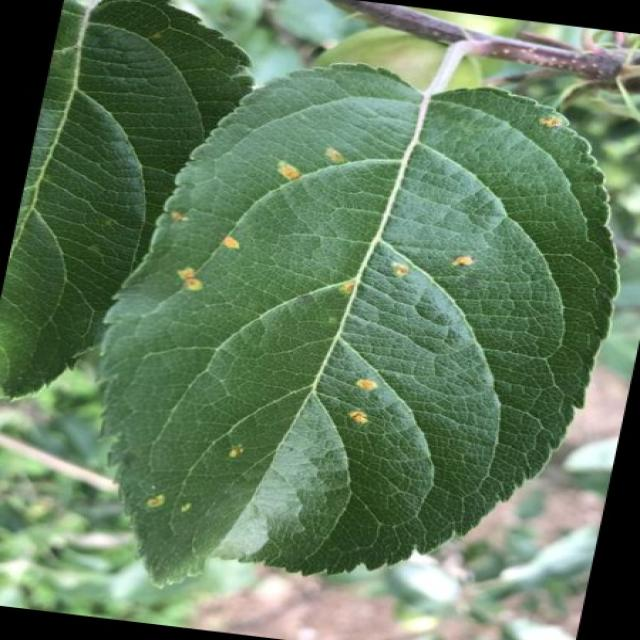Gymnosporangium_Rusts: (93, 61, 620, 586)
